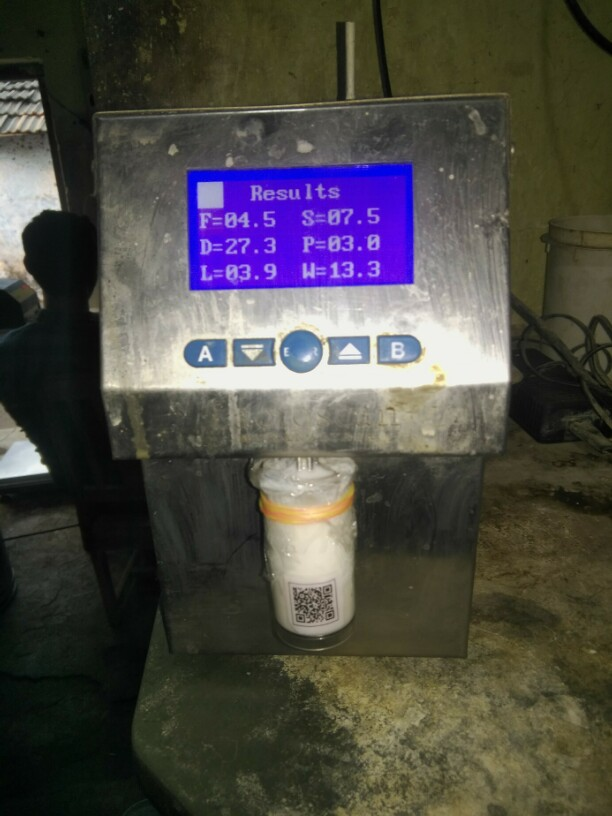lcd: (174, 159, 428, 299)
qr: (284, 579, 351, 637)
